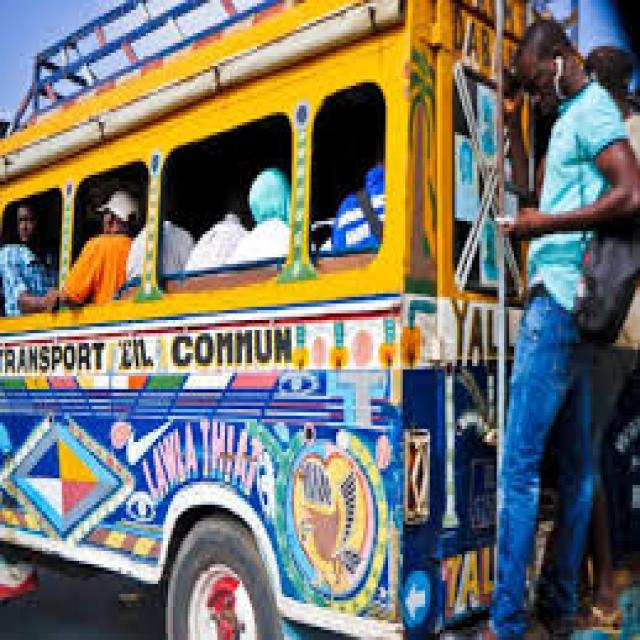car rapide: (1, 1, 526, 638)
